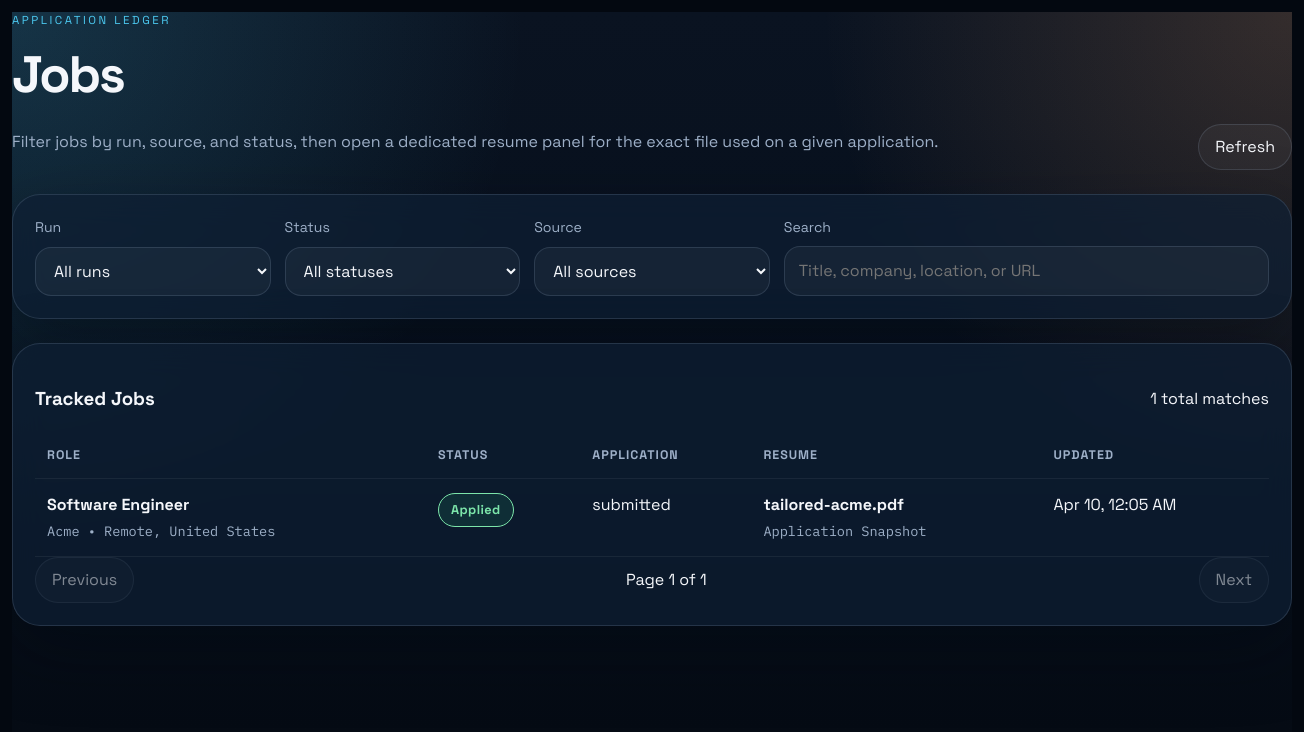
Test case: JobsPage › opens a detail drawer with the tailored resume preview panel
Click the text "Software Engineer": point(118, 505) [47, 494, 189, 515]
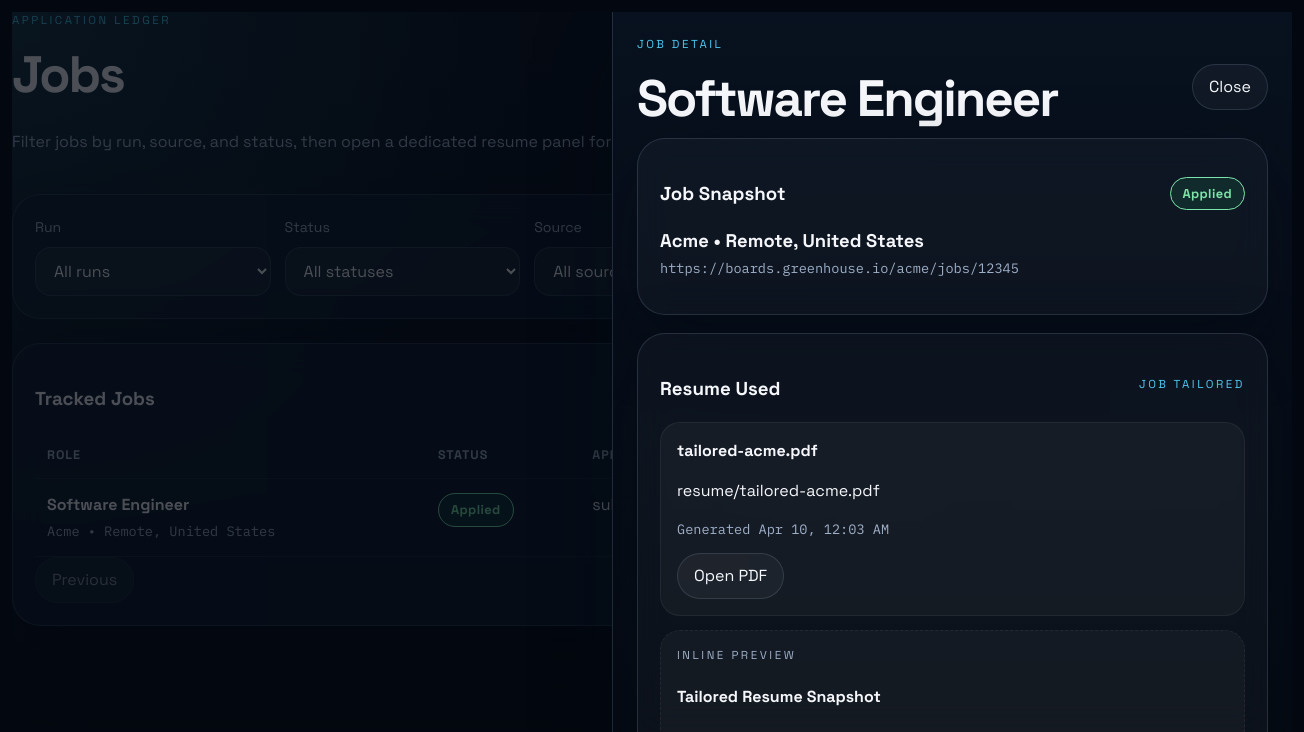
Now the heading "Tailored Resume Snapshot" is shown, box [677, 686, 881, 707]
Now the link "Open PDF" is shown, box [677, 553, 784, 599]
Now the text "tailored-acme.pdf" is shown 2 times, box [763, 494, 904, 515]; [677, 440, 818, 461]
